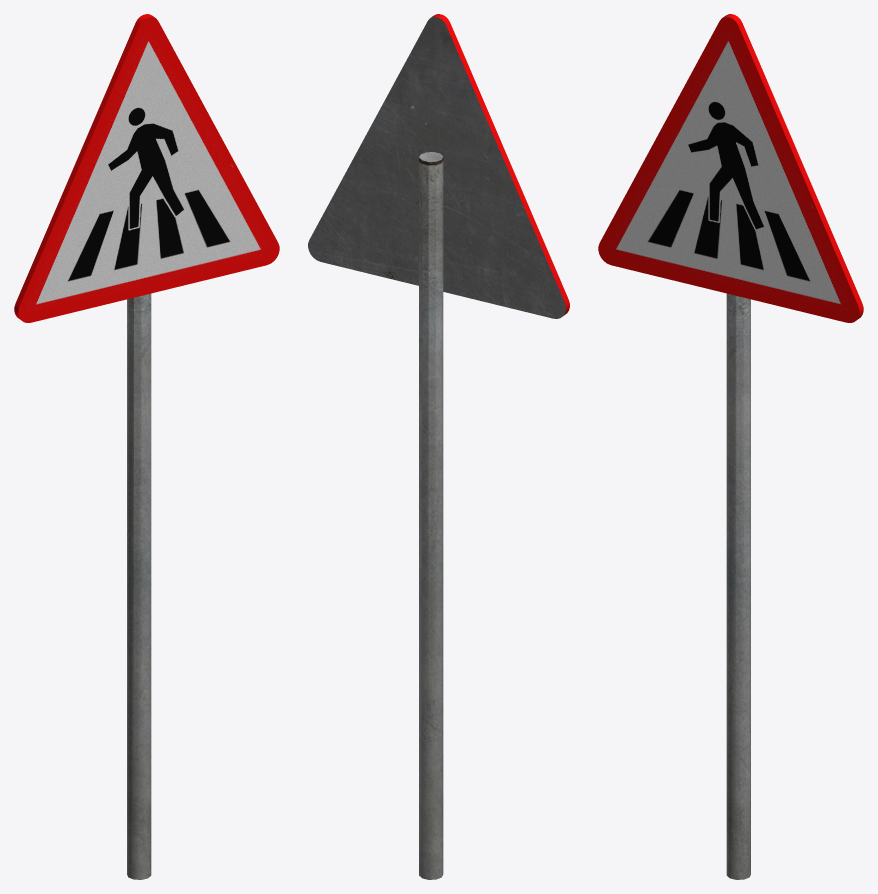
Rendered from Walker.FBX.
3 renders of one model, left to right at view 1: azimuth 30°, elevation 25°; view 2: azimuth 150°, elevation 25°; view 3: azimuth 330°, elevation 25°, orthographic.
Parts seen in each view (by area): view 1: Line002; view 2: Line002; view 3: Line002.
Part boxes in pixels (<box>): Line002: <box>14,14,279,879</box>; Line002: <box>308,14,569,879</box>; Line002: <box>598,14,863,879</box>.
Bounding box in the file's own units: 37.68 × 119 × 3.94.
Materials: 1 (1 with a texture image).
